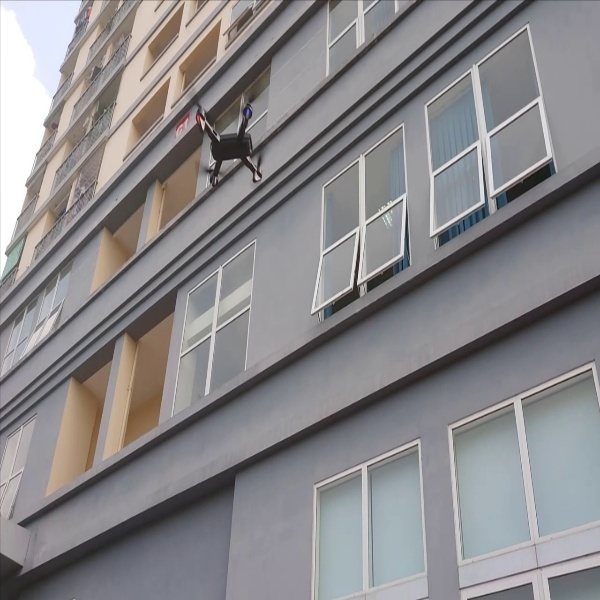drone: (188, 84, 281, 191)
